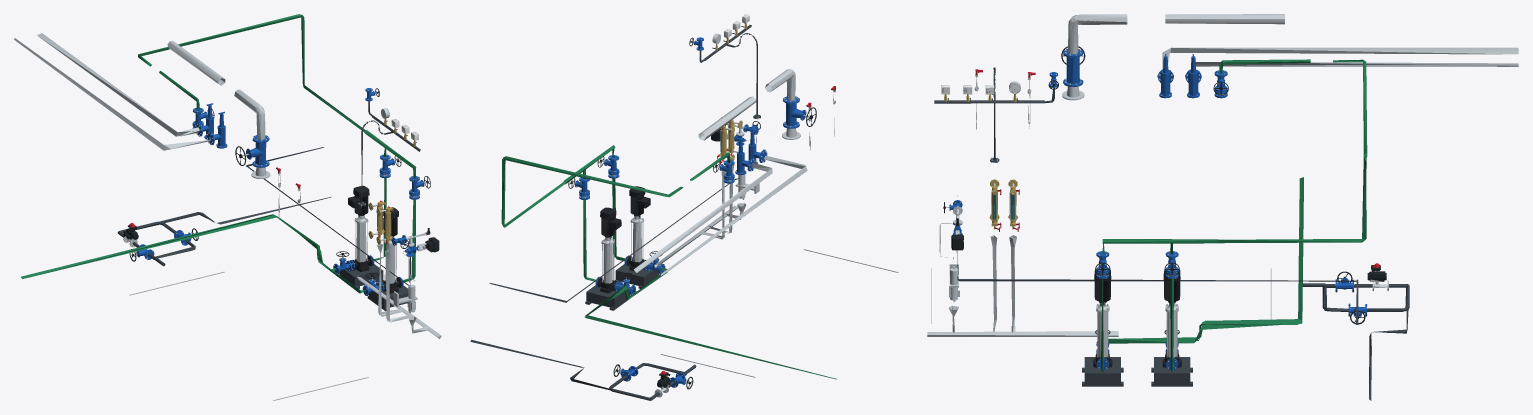
3 renders of one model, left to right at view 1: azimuth 30°, elevation 25°; view 2: azimuth 150°, elevation 25°; view 3: azimuth 270°, elevation 25°, orthographic. The views are drawn at different scales.
Visible parts, largest first — view 1: suction_common, pump_2, to_direct, local_open_drains, safety_vent_2, safety_vent_1, pump_branch_2, pump_1, pump_branch_1, steam_manual, steam_delivery, steam_rise (+3 smaller); view 2: pump_2, to_direct, pump_1, suction_common, pump_branch_2, safety_vent_2, safety_vent_1, local_open_drains, pump_branch_1, steam_delivery, steam_manual, steam_rise (+2 smaller); view 3: safety_vent_1, suction_common, local_open_drains, pump_branch_2, to_direct, safety_vent_2, pump_branch_1, steam_delivery, pump_1, pump_2, steam_rise, tds_common (+3 smaller).
Part boxes in pixels (<box>): suction_common: <box>21,214,360,293</box>; pump_2: <box>348,185,372,271</box>; to_direct: <box>138,14,365,132</box>; local_open_drains: <box>357,244,441,338</box>; safety_vent_2: <box>37,33,199,136</box>; safety_vent_1: <box>14,38,211,150</box>; pump_branch_2: <box>330,148,386,288</box>; pump_1: <box>382,207,401,293</box>; pump_branch_1: <box>360,167,415,310</box>; steam_manual: <box>235,135,269,167</box>; steam_delivery: <box>167,40,225,85</box>; steam_rise: <box>234,89,265,139</box>; pump_2: <box>597,207,621,293</box>; to_direct: <box>501,156,682,227</box>; pump_1: <box>626,186,650,271</box>; suction_common: <box>585,269,836,379</box>; pump_branch_2: <box>583,169,637,310</box>; safety_vent_2: <box>634,162,772,272</box>; safety_vent_1: <box>659,155,807,277</box>; local_open_drains: <box>654,165,746,267</box>; pump_branch_1: <box>612,148,666,288</box>; steam_delivery: <box>698,96,756,140</box>; steam_manual: <box>783,96,816,128</box>; steam_rise: <box>765,69,795,100</box>; safety_vent_1: <box>1162,47,1518,69</box>; suction_common: <box>1108,177,1303,343</box>; local_open_drains: <box>927,235,1118,336</box>; pump_branch_2: <box>1151,243,1192,386</box>; to_direct: <box>1218,59,1367,243</box>; safety_vent_2: <box>1195,62,1518,66</box>; pump_branch_1: <box>1082,243,1123,386</box>; steam_delivery: <box>1165,14,1284,24</box>; pump_1: <box>1093,268,1112,367</box>; pump_2: <box>1162,268,1181,367</box>; steam_rise: <box>1068,14,1127,54</box>; tds_common: <box>956,250,1356,281</box>.
Bounding box in the file's own units: 5 × 3.36 × 6.4.
